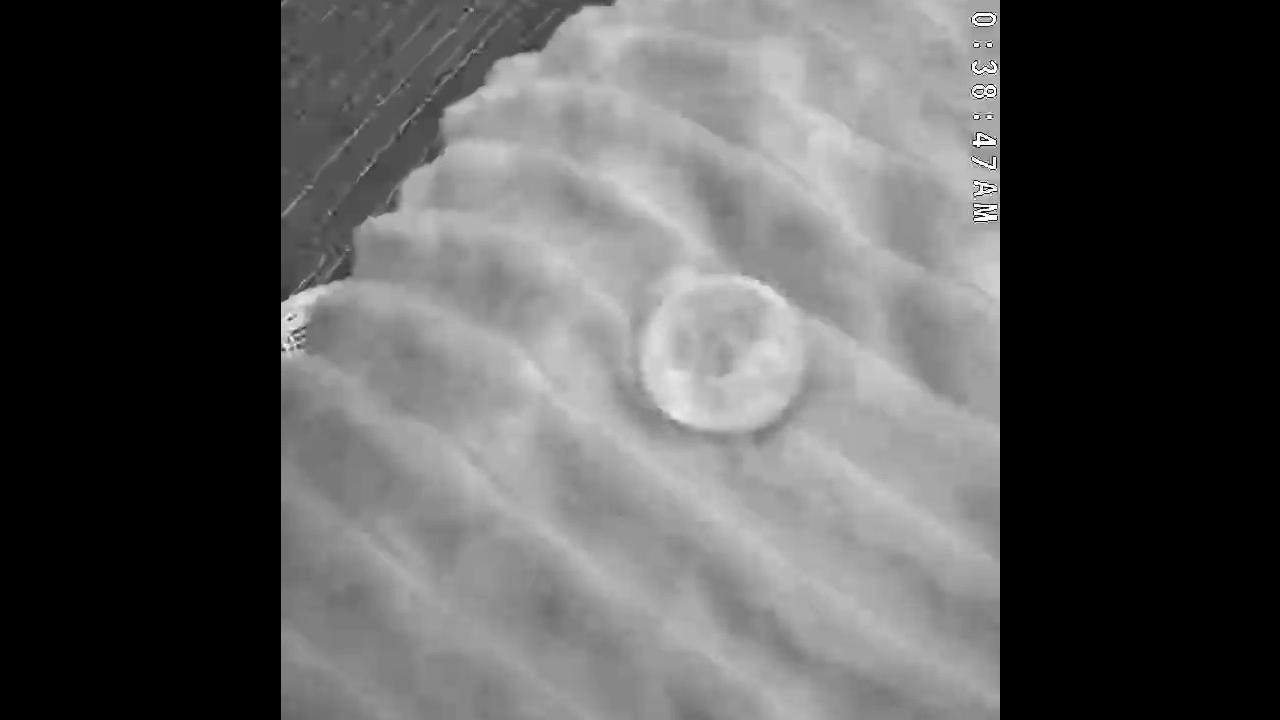coin: (627, 266, 811, 442)
